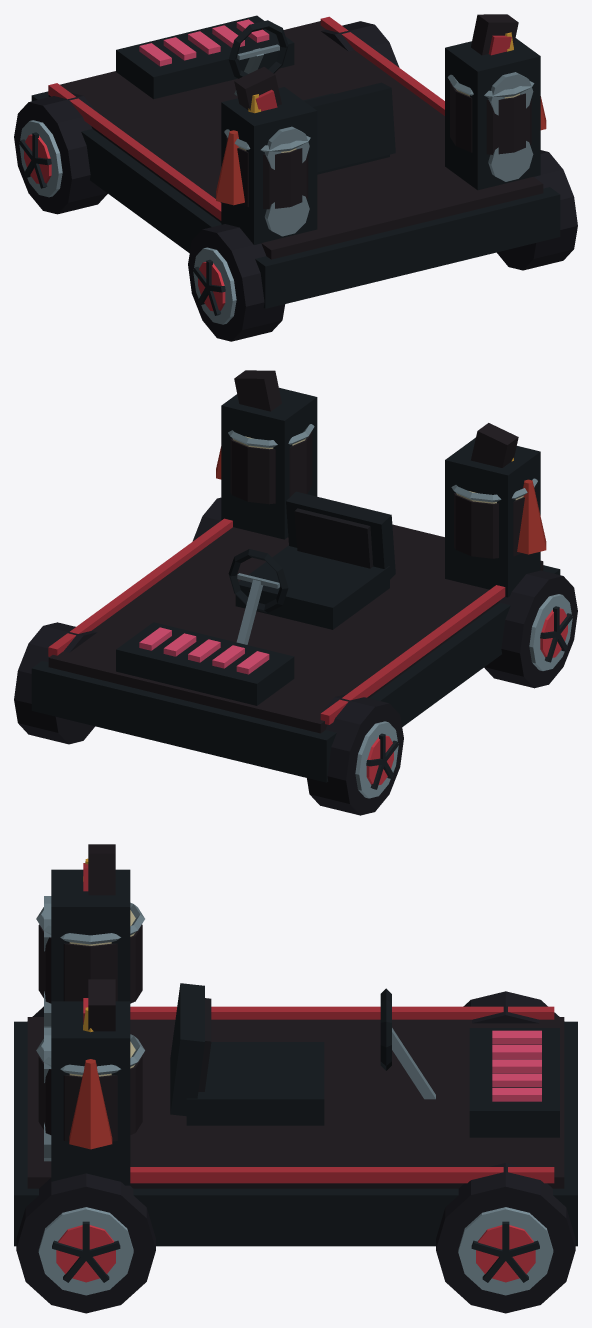
The model's file is kart.glb.
3 views of the same model, one above another, from view 1: azimuth 30°, elevation 25°; view 2: azimuth 150°, elevation 25°; view 3: azimuth 270°, elevation 25° (orthographic). The views are drawn at different scales.
Parts seen in each view (by area): view 1: identity-stage-stage-platform-and-pa-towers, wheel-rear-left, wheel-front-left, identity-stage-driver-cockpit, identity-stage-motif-drums, wheel-rear-right, identity-stage-motif-ears, identity-stage-motif-fire, wheel-front-right; view 2: identity-stage-stage-platform-and-pa-towers, identity-stage-driver-cockpit, identity-stage-motif-drums, wheel-front-left, wheel-rear-left, wheel-front-right, identity-stage-motif-ears, identity-stage-motif-fire; view 3: identity-stage-stage-platform-and-pa-towers, identity-stage-driver-cockpit, wheel-front-right, wheel-rear-right, identity-stage-motif-drums, identity-stage-motif-ears, identity-stage-motif-fire, wheel-front-left.
Boxes of the visible parts, x1=… form: identity-stage-stage-platform-and-pa-towers: x1=31, y1=15, x2=560, y2=308; wheel-rear-left: x1=188, y1=224, x2=285, y2=341; wheel-front-left: x1=14, y1=93, x2=107, y2=214; identity-stage-driver-cockpit: x1=228, y1=20, x2=395, y2=174; identity-stage-motif-drums: x1=224, y1=74, x2=534, y2=209; wheel-rear-right: x1=497, y1=150, x2=577, y2=270; identity-stage-motif-ears: x1=234, y1=14, x2=518, y2=111; identity-stage-motif-fire: x1=216, y1=32, x2=546, y2=205; wheel-front-right: x1=321, y1=21, x2=399, y2=67; identity-stage-stage-platform-and-pa-towers: x1=31, y1=387, x2=560, y2=782; identity-stage-driver-cockpit: x1=228, y1=491, x2=395, y2=644; identity-stage-motif-drums: x1=228, y1=424, x2=537, y2=558; wheel-front-left: x1=307, y1=694, x2=403, y2=815; wheel-rear-left: x1=484, y1=570, x2=577, y2=688; wheel-front-right: x1=14, y1=622, x2=96, y2=744; identity-stage-motif-ears: x1=234, y1=370, x2=518, y2=467; identity-stage-motif-fire: x1=216, y1=446, x2=546, y2=554; identity-stage-stage-platform-and-pa-towers: x1=14, y1=869, x2=577, y2=1246; identity-stage-driver-cockpit: x1=170, y1=983, x2=435, y2=1125; wheel-front-right: x1=436, y1=1163, x2=575, y2=1313; wheel-rear-right: x1=16, y1=1173, x2=155, y2=1313; identity-stage-motif-drums: x1=36, y1=902, x2=144, y2=1141; identity-stage-motif-ears: x1=83, y1=844, x2=115, y2=1031; identity-stage-motif-fire: x1=69, y1=858, x2=112, y2=1149; wheel-front-left: x1=463, y1=991, x2=559, y2=1023.
Size of the model in its own units: 2.16 by 1.46 by 2.5.
